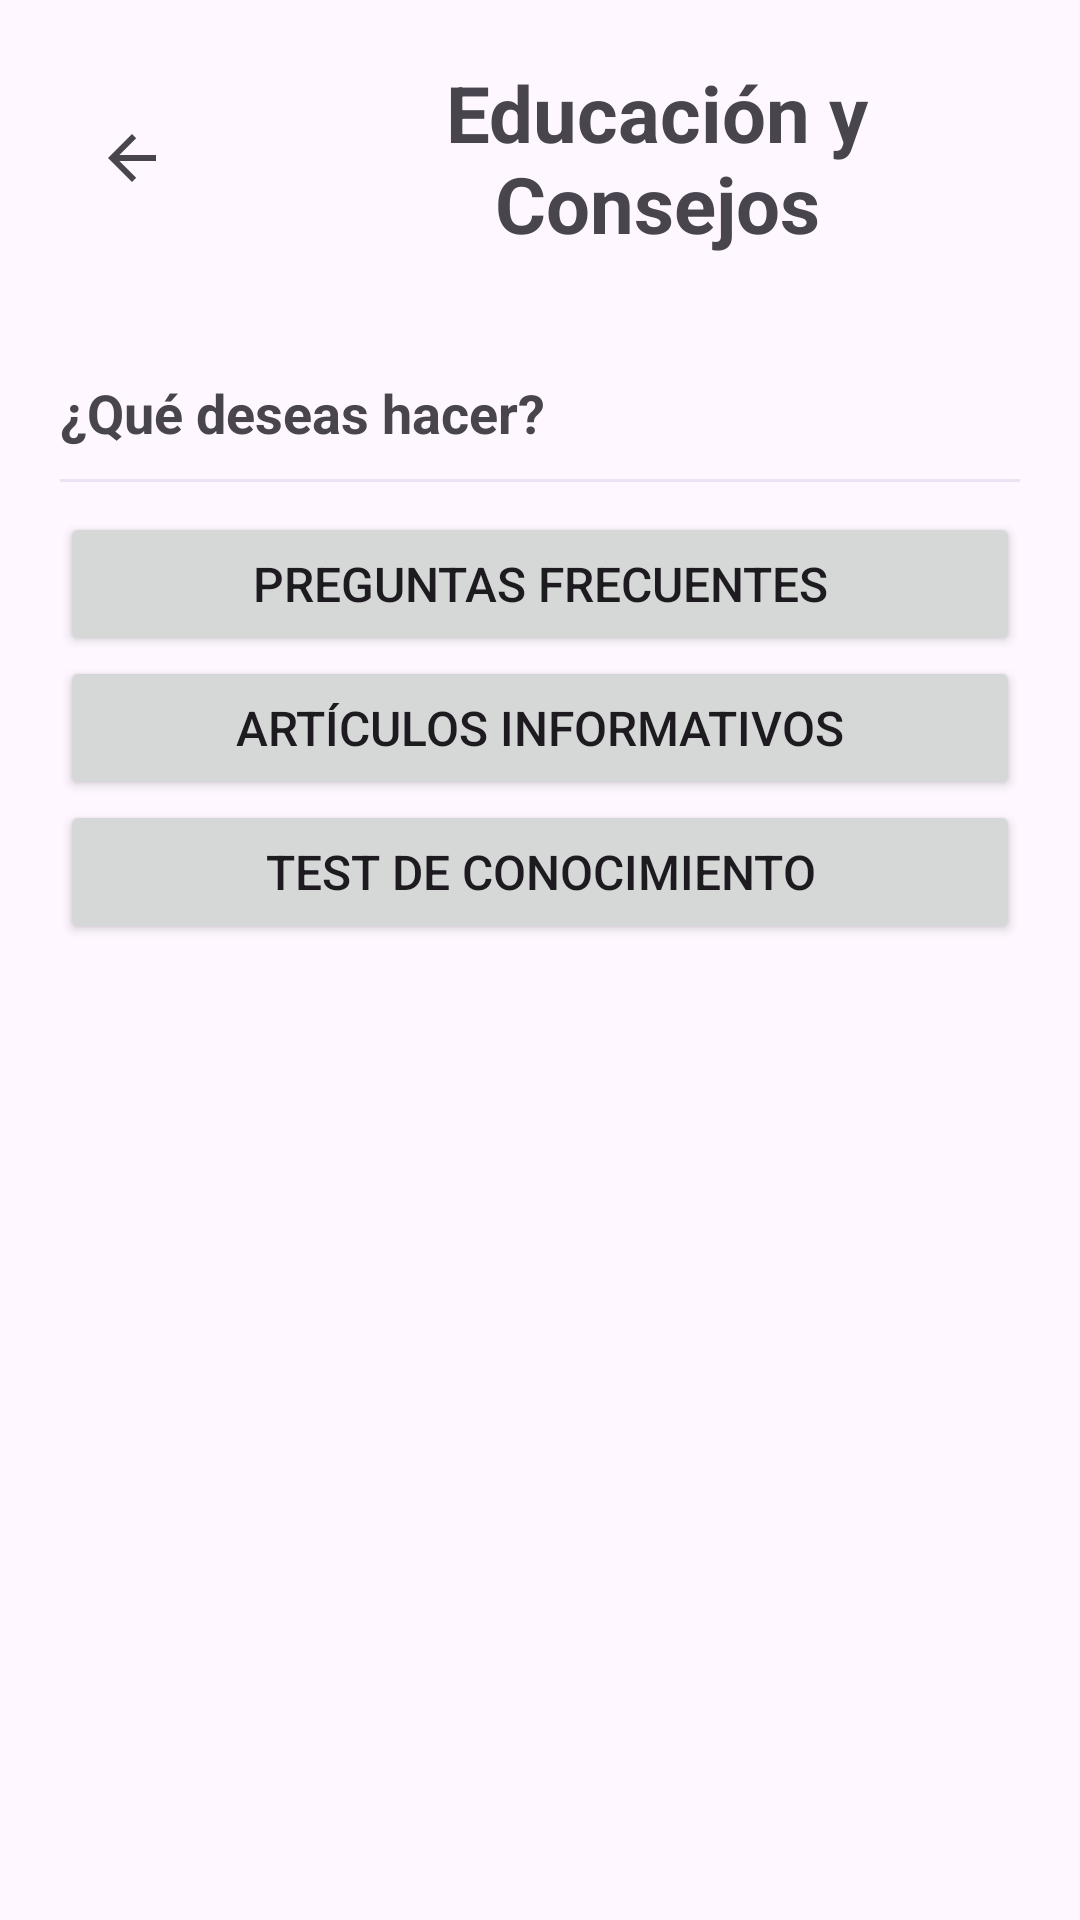

Icon bounding boxes for this 1080*1920 phone screenshot, format (x1, y1, x2, y2):
Regresar: (108, 134, 156, 182)
